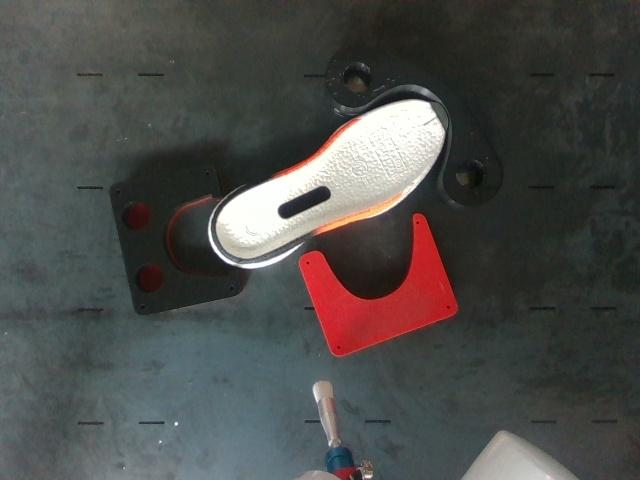shoes: (212, 102, 447, 260)
